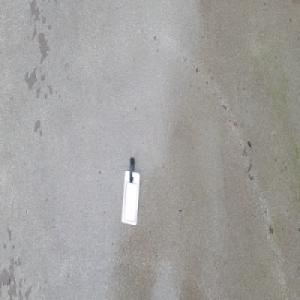LuggageTag: (120, 155, 140, 227)
